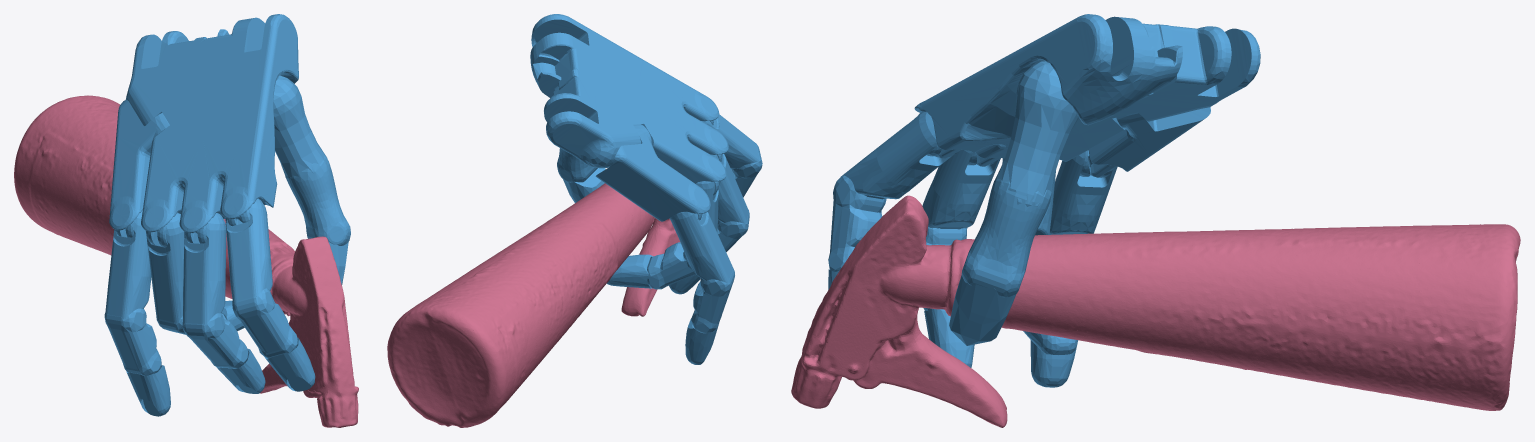
The picture shows the model from 3 angles, left to right: view 1: azimuth 30°, elevation 25°; view 2: azimuth 150°, elevation 25°; view 3: azimuth 270°, elevation 25°; orthographic projection. The views are drawn at different scales.
Visible parts, largest first — view 1: 22; view 2: 22; view 3: 22.
Part boxes in pixels (x1,y1,x2,y2): 22: [14, 14, 358, 427]; 22: [387, 14, 762, 427]; 22: [791, 14, 1520, 427].
Size of the model in its own units: 0.1152 by 0.1853 by 0.2685.
